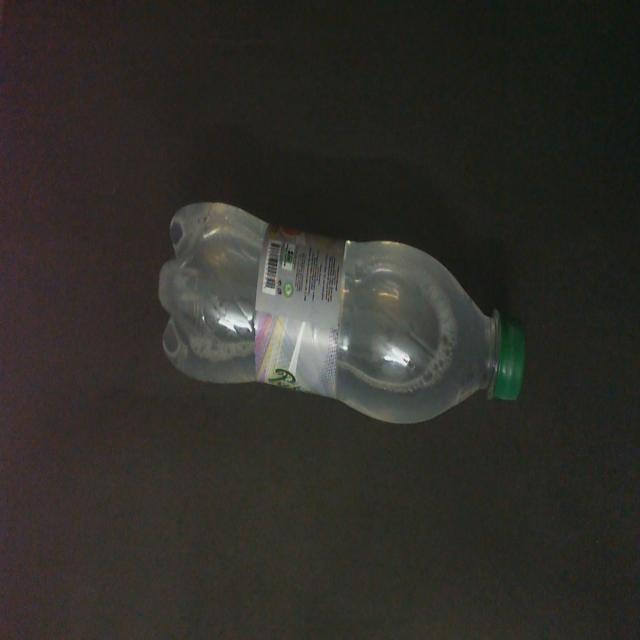non-defect: (156, 198, 528, 429)
